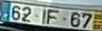2: (20, 5, 32, 23)
6: (69, 11, 81, 28), (10, 4, 21, 21)
7: (81, 12, 93, 29)
F: (46, 8, 59, 25)
I: (40, 7, 47, 25)
